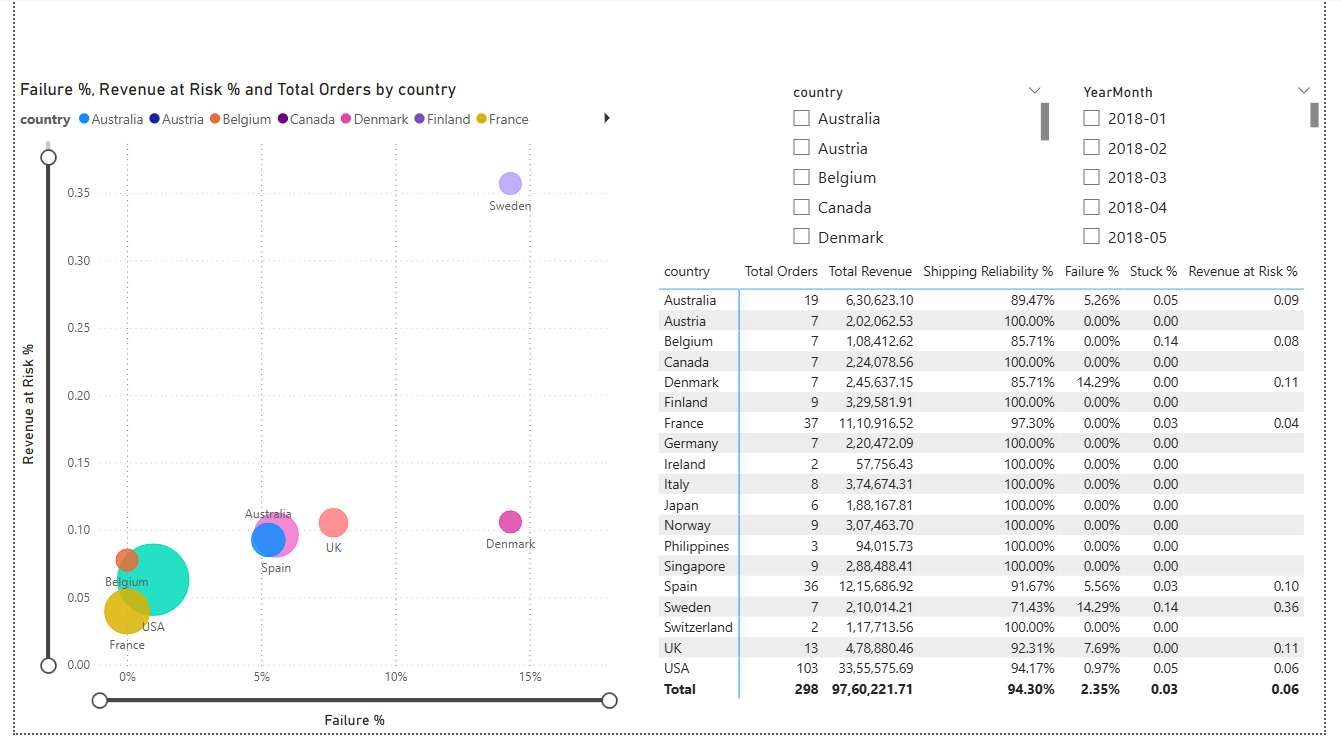

The dashboard page shown, as its layout file describes it:
{"tool":"powerbi","page":{"name":"Country Risk","canvas":[1280,720],"ordinal":1},"visuals":[{"type":"slicer","fields":{"Values":["gold_order_ops_fact.country"]},"box":[748.8,79.4,268.4,173.1],"z":0},{"type":"slicer","fields":{"Values":["DimDate.YearMonth"]},"box":[1031.6,79.4,248.2,173.1],"z":1000},{"type":"pivotTable","fields":{"Rows":["gold_order_ops_fact.country"],"Values":["_Measures.Total Orders","_Measures.Total Revenue","_KPI Measures.Shipping Reliability %","_KPI Measures.Failure %","_KPI Measures.Stuck %","_KPI Measures.Revenue at Risk %"]},"box":[624.7,252.5,655,467.5],"z":2000},{"type":"scatterChart","fields":{"Series":["gold_order_ops_fact.country"],"Size":["_Measures.Total Orders"],"X":["_KPI Measures.Failure %"],"Y":["_KPI Measures.Revenue at Risk %"]},"box":[0,79.4,598.7,640.6],"z":3000}]}

Visuals, with their boxes in screenshot pixels (x1, y1, x2, y2), scaled from the page's 1280x720 canvas onto the 1342x739 screenshot:
slicer - gold_order_ops_fact.country: l=785, t=81, r=1066, b=259
slicer - DimDate.YearMonth: l=1082, t=81, r=1341, b=259
pivotTable - gold_order_ops_fact.country x _Measures.Total Orders: l=655, t=259, r=1341, b=738
scatterChart - gold_order_ops_fact.country x _Measures.Total Orders: l=0, t=81, r=628, b=738
